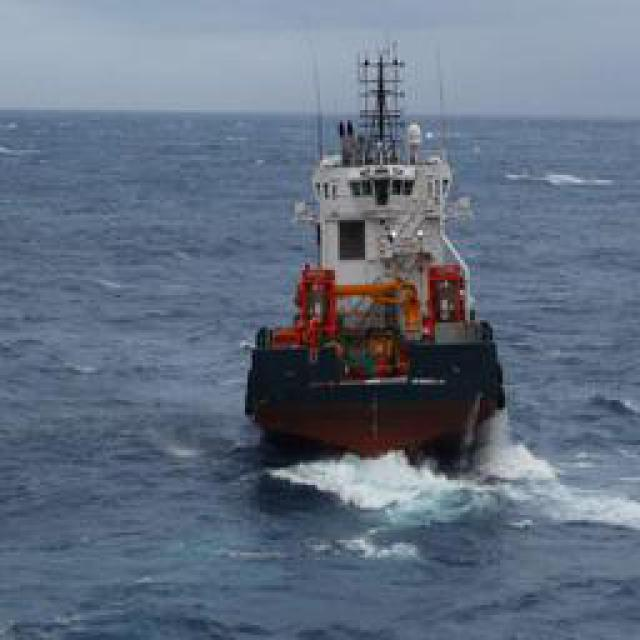Ship: (247, 41, 507, 464)
